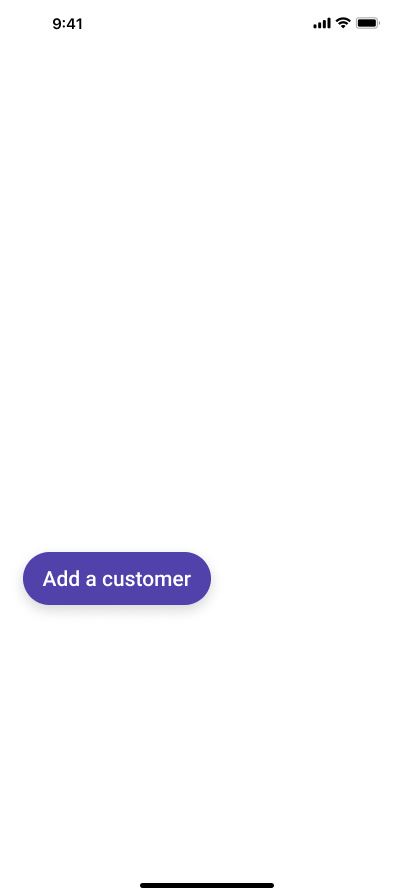Buttons: (8, 542, 226, 625)
Home Indicator: (0, 862, 414, 896)
Status Bar: (0, 0, 414, 44)
